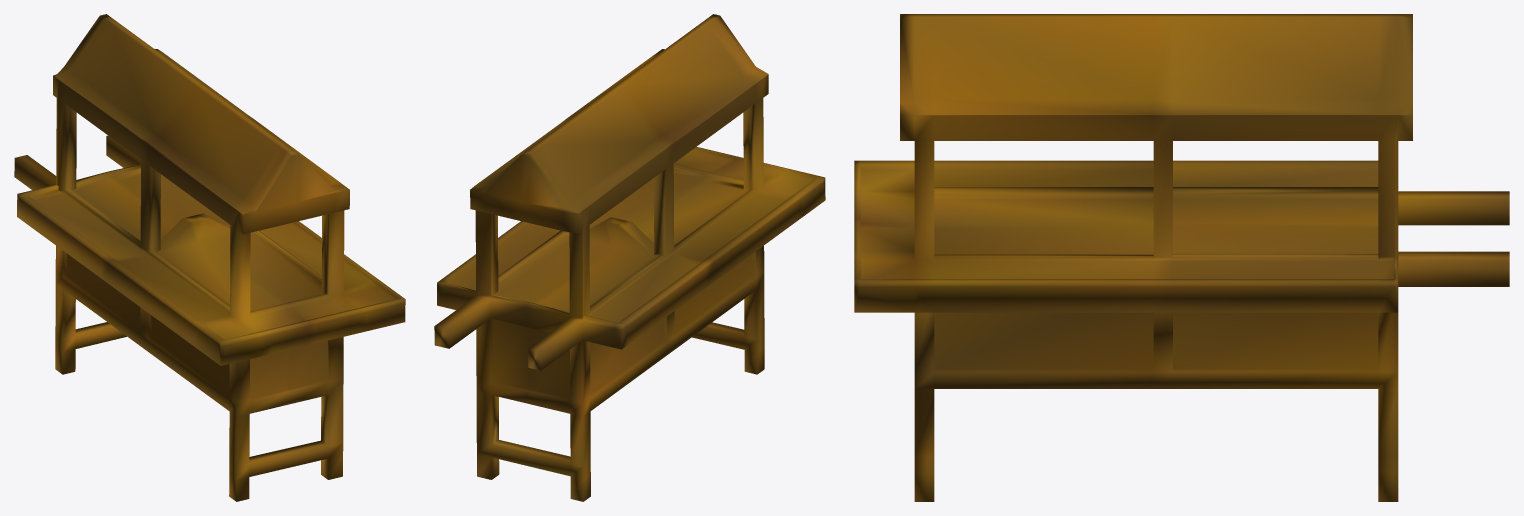
File: angkringon.fbx
3 views of the same model, side by side, from view 1: azimuth 30°, elevation 25°; view 2: azimuth 150°, elevation 25°; view 3: azimuth 270°, elevation 25° (orthographic). The views are drawn at different scales.
Visible parts, largest first — view 1: angkringan; view 2: angkringan; view 3: angkringan.
Boxes of the visible parts, left/top/right/bottom form: angkringan: left=14, top=14, right=405, bottom=501; angkringan: left=434, top=14, right=825, bottom=501; angkringan: left=854, top=14, right=1509, bottom=501.
Bounding box in the file's own units: 1.13 × 1.98 × 2.61.
